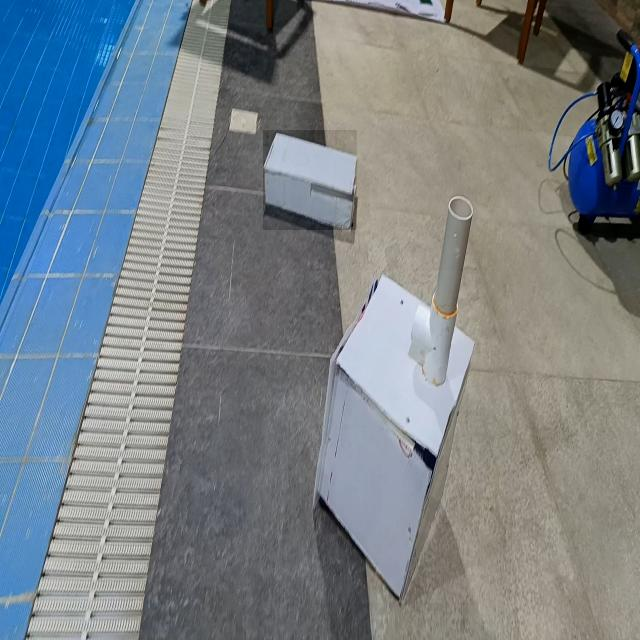Cube: (312, 271, 476, 603)
Cuboid: (263, 130, 357, 230)
